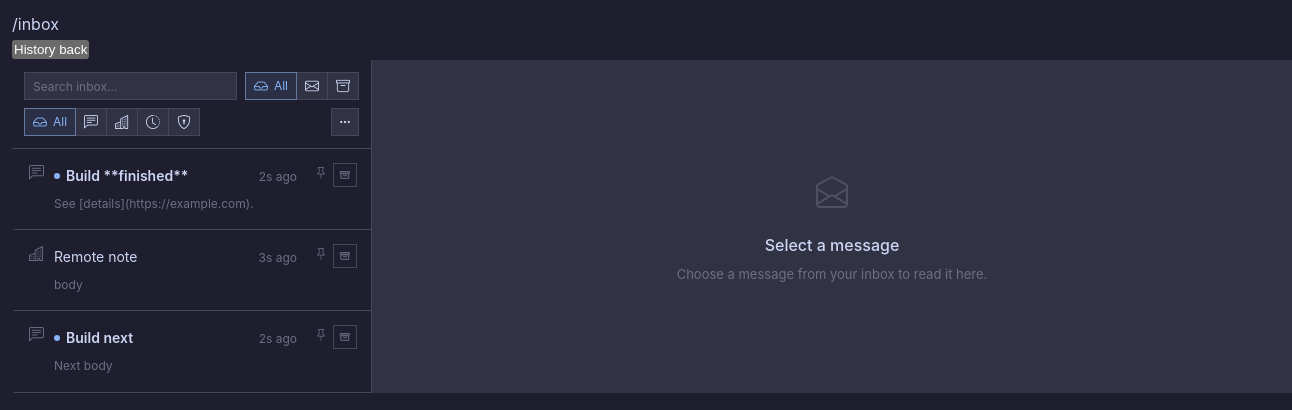
Inbox › opens the next filtered message when archiving through keyboard
expect the button that starts with "Build **finished**" is shown: met, box [44, 149, 311, 229]
Click the radio button named "Primary" at (91, 122), box [75, 108, 107, 136]
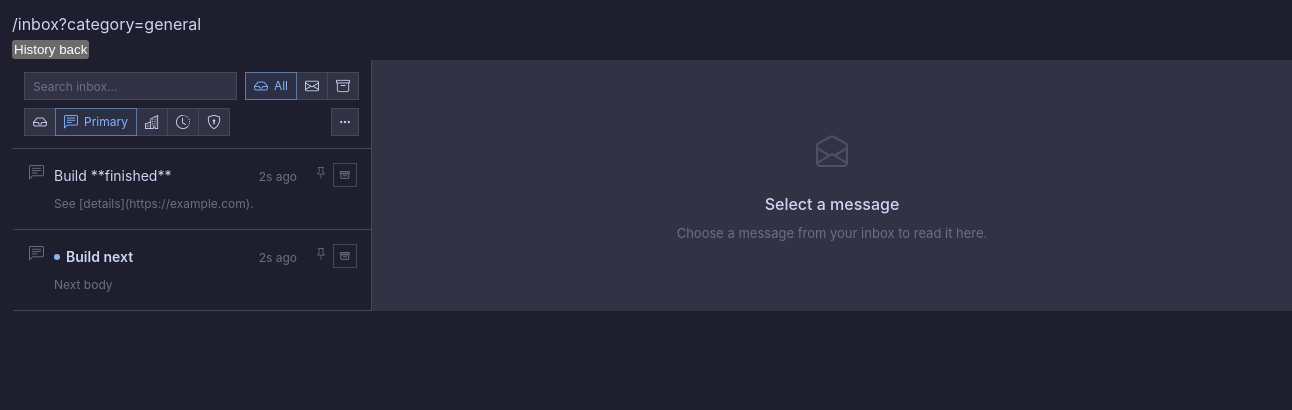
Type "Build" into the search field labelled "Search inbox" at (130, 86), box [24, 72, 237, 100]
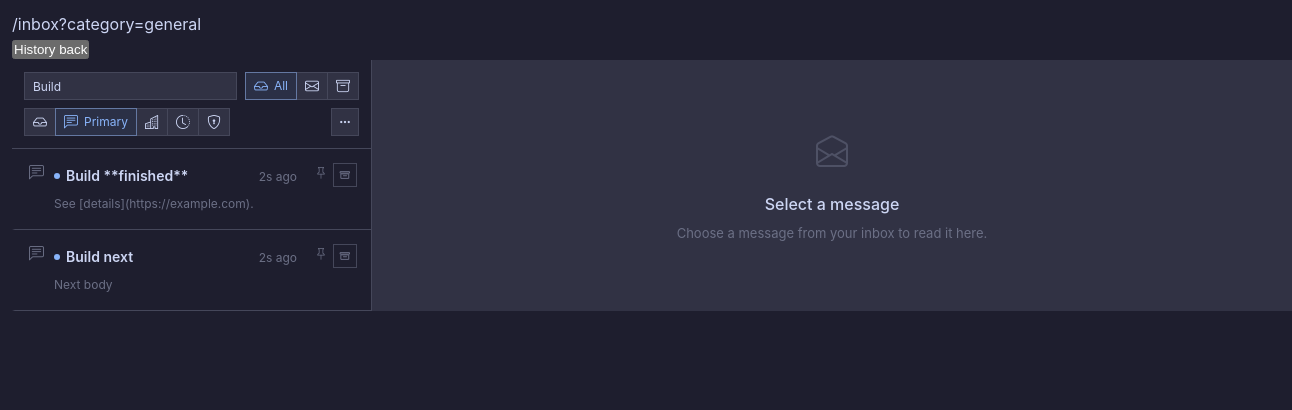
Click the button that starts with "Build **finished**" at (127, 176), box [44, 149, 311, 229]
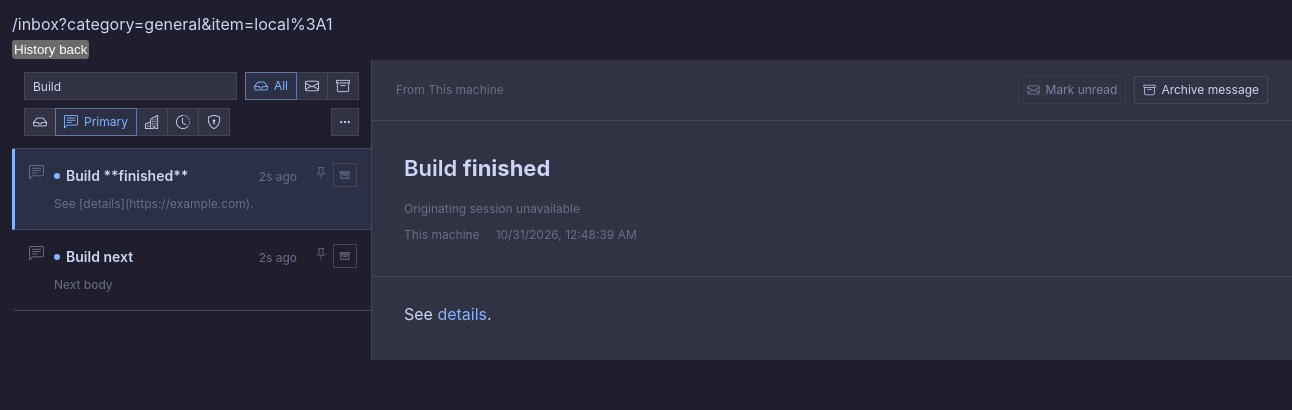
Press Delete
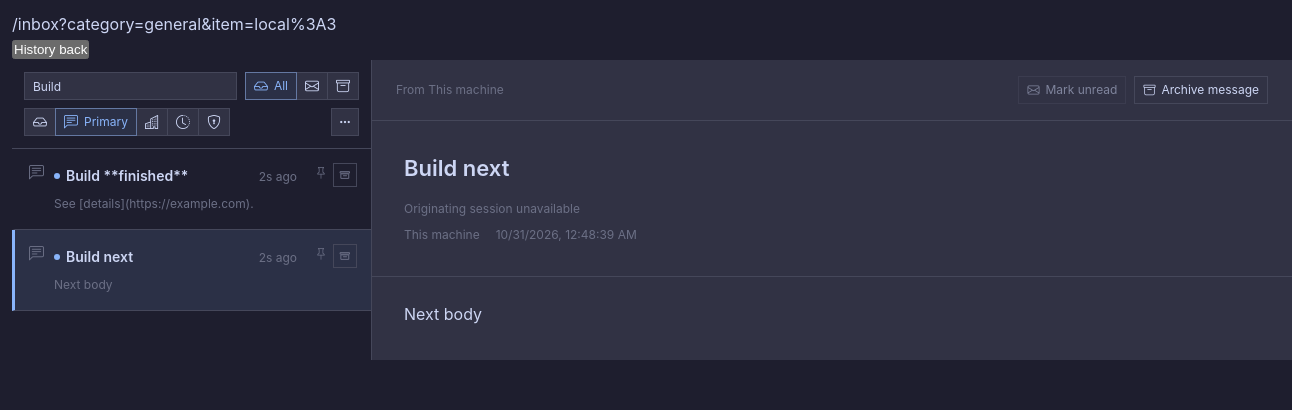
expect the heading "Build next" is shown: met, box [404, 155, 509, 181]
